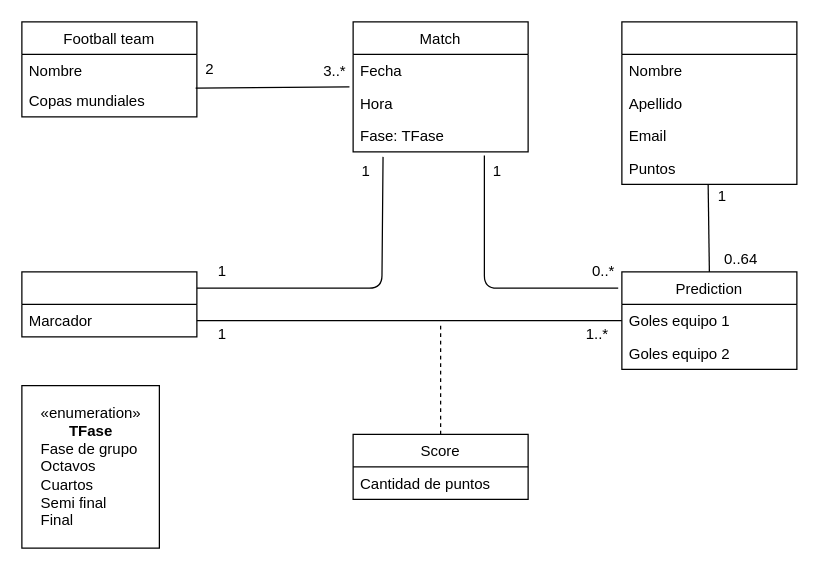
This 819x570 diagram has some shape labels left out. Here are the shapes that lost their labels. From the top down, the box of each, then its label:
(621, 21, 797, 184): Gambler
(21, 271, 197, 337): Result
